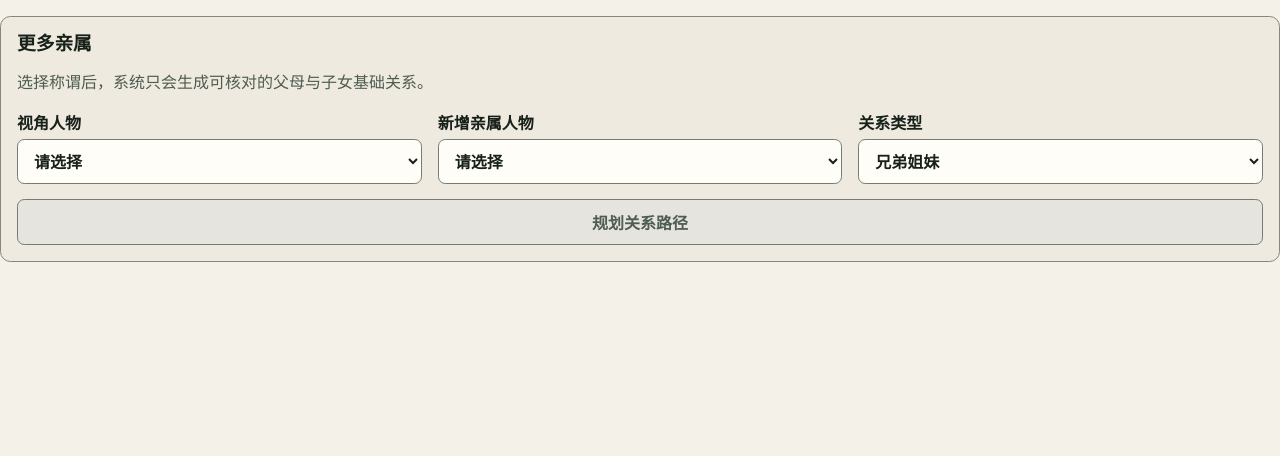
Test: RelativeWizard › asks the administrator to choose a missing intermediary and replans
This screenshot has width=1280, height=456.
Select "P000001｜王小明" in the dropdown labelled "视角人物". click: (219, 162)
box: [17, 139, 422, 184]
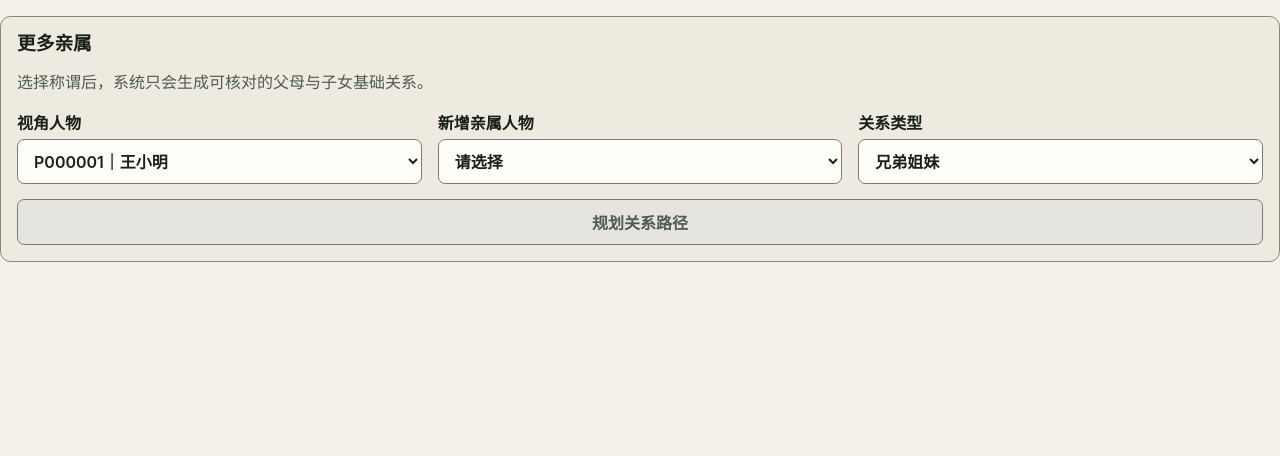
Select "P000004｜王建军" in the dropdown labelled "新增亲属人物". click: (640, 162)
box: [438, 139, 842, 184]
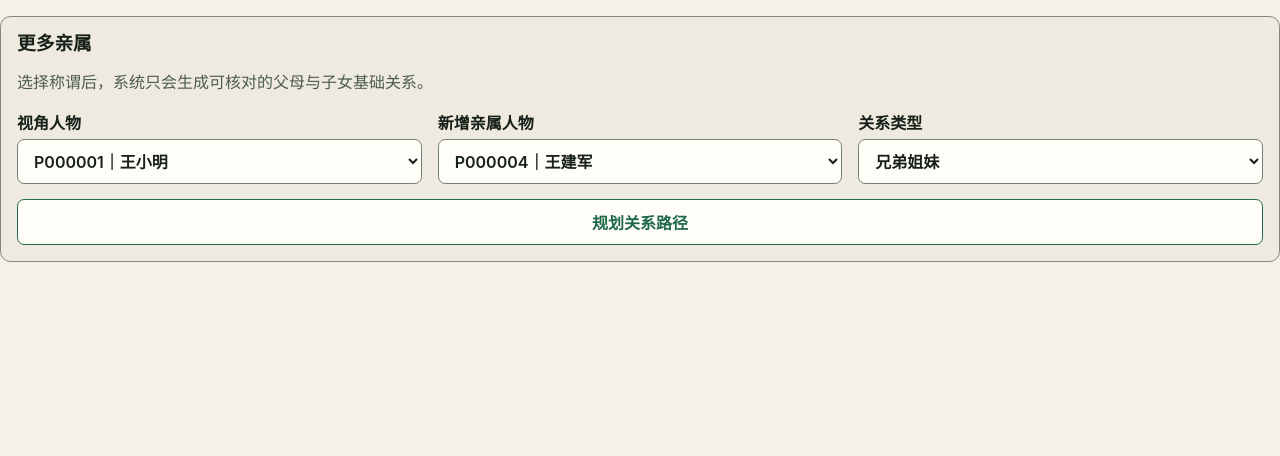
Select "祖父母" in the dropdown labelled "关系类型". click: (1061, 162)
box: [858, 139, 1263, 184]
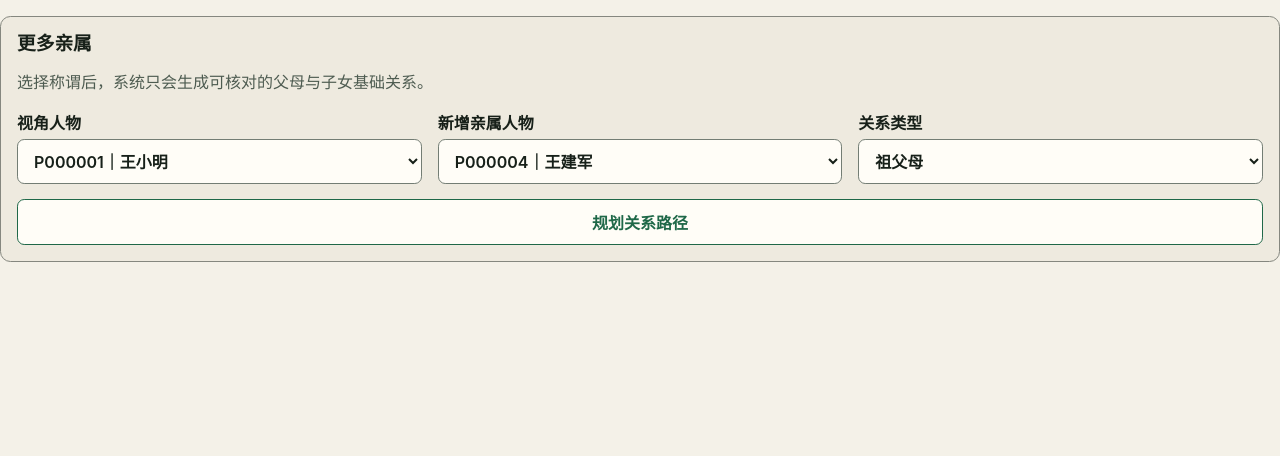
Click the button "规划关系路径". click: (640, 222)
box: [17, 199, 1263, 245]
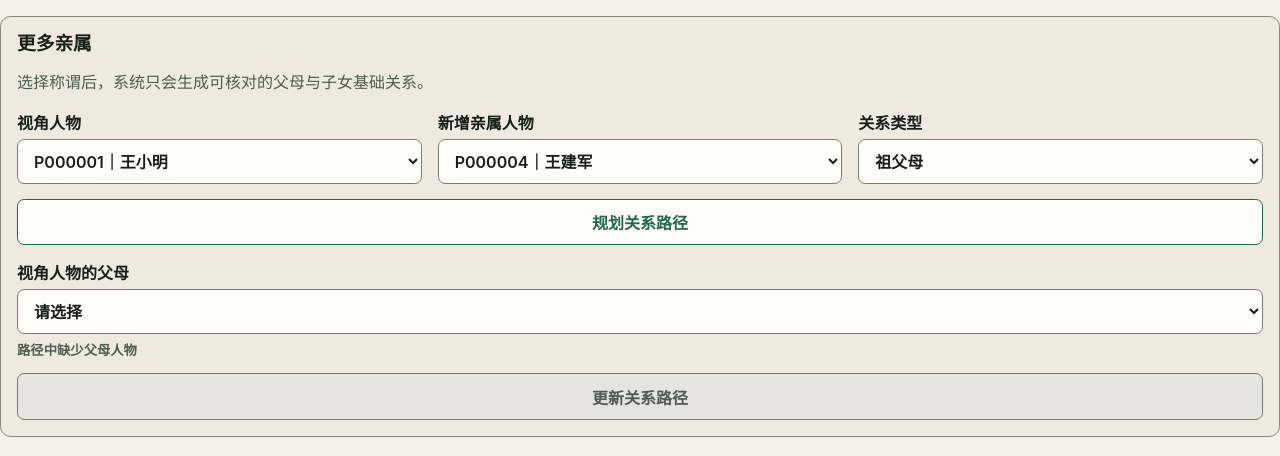
Result: the dropdown named "中间人：视角人物的父母" is shown
Select "P000002｜王建国" in the dropdown named "中间人：视角人物的父母". click: (640, 312)
box: [17, 289, 1263, 334]
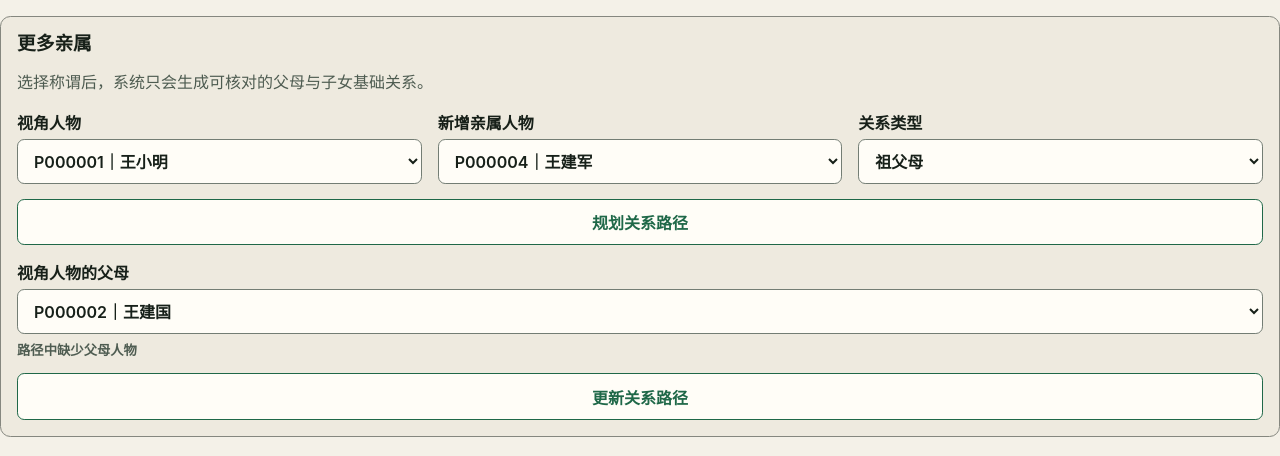
Click the button "更新关系路径". click: (640, 396)
box: [17, 373, 1263, 420]
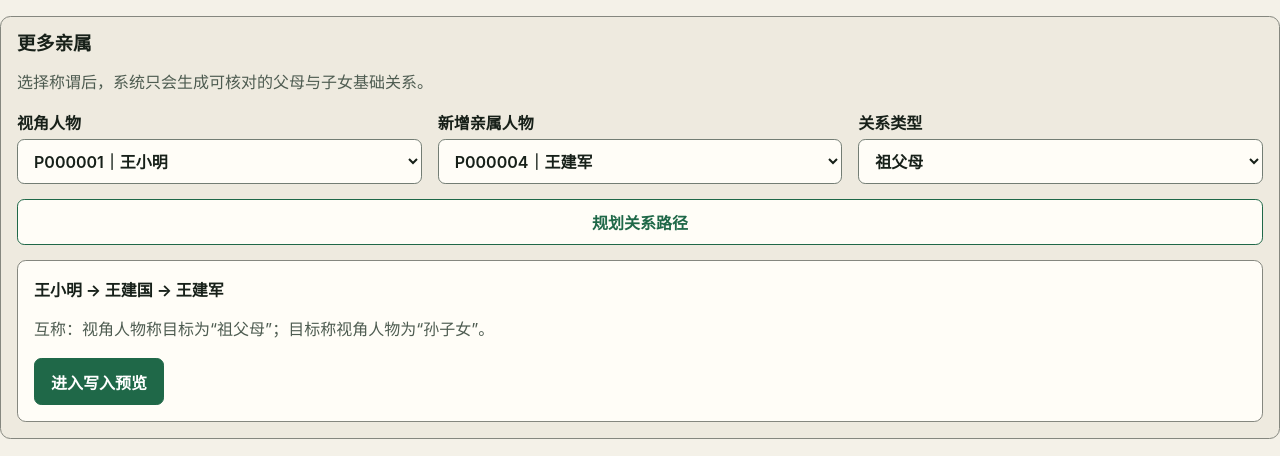
Result: the text "王小明 → 王建国 → 王建军" is shown at [34, 280, 224, 300]
